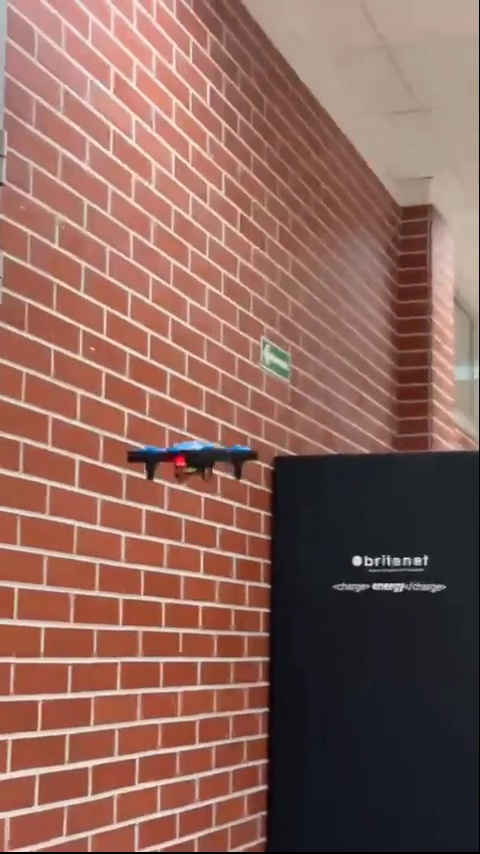drone: (123, 440, 258, 483)
